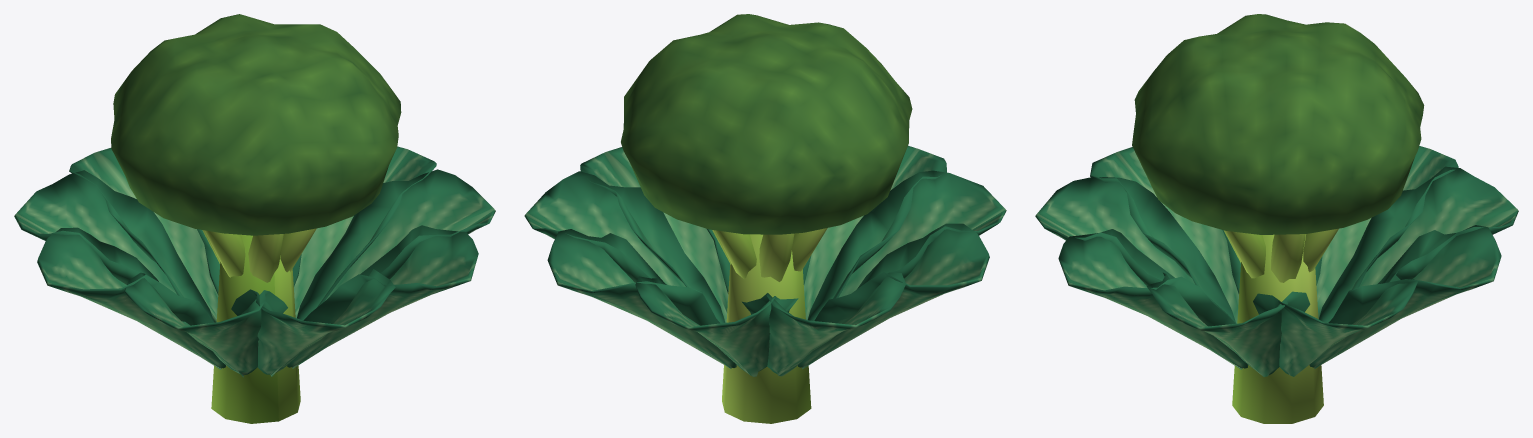
File: NP_Broccoli_Ready_LOD1.fbx
The picture shows the model from 3 angles, left to right: view 1: azimuth 30°, elevation 25°; view 2: azimuth 150°, elevation 25°; view 3: azimuth 270°, elevation 25°; orthographic projection.
Parts seen in each view (by area): view 1: NP_Broccoli_Ready; view 2: NP_Broccoli_Ready; view 3: NP_Broccoli_Ready.
Boxes of the visible parts, box(x1,y1,x2,y2) form: NP_Broccoli_Ready: box(14, 14, 495, 423); NP_Broccoli_Ready: box(524, 14, 1006, 423); NP_Broccoli_Ready: box(1035, 14, 1518, 423).
Bounding box in the file's own units: 76.67 × 64.89 × 77.5.
